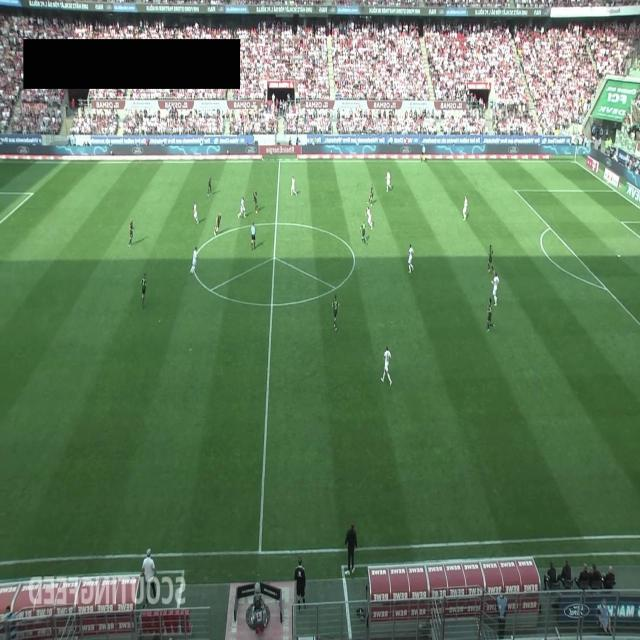player: (380, 346, 392, 386), (491, 270, 500, 306), (332, 293, 339, 332), (140, 273, 147, 309), (486, 302, 494, 331), (190, 246, 198, 274), (214, 212, 222, 237), (365, 205, 373, 229), (408, 243, 414, 273), (488, 245, 494, 273), (238, 197, 246, 218), (128, 218, 134, 246), (463, 195, 469, 221), (385, 169, 392, 191), (253, 189, 259, 213), (361, 220, 367, 244), (193, 201, 199, 225), (291, 175, 297, 197), (207, 176, 212, 196), (369, 183, 373, 203)
referee: (250, 221, 256, 250), (421, 144, 426, 162)
